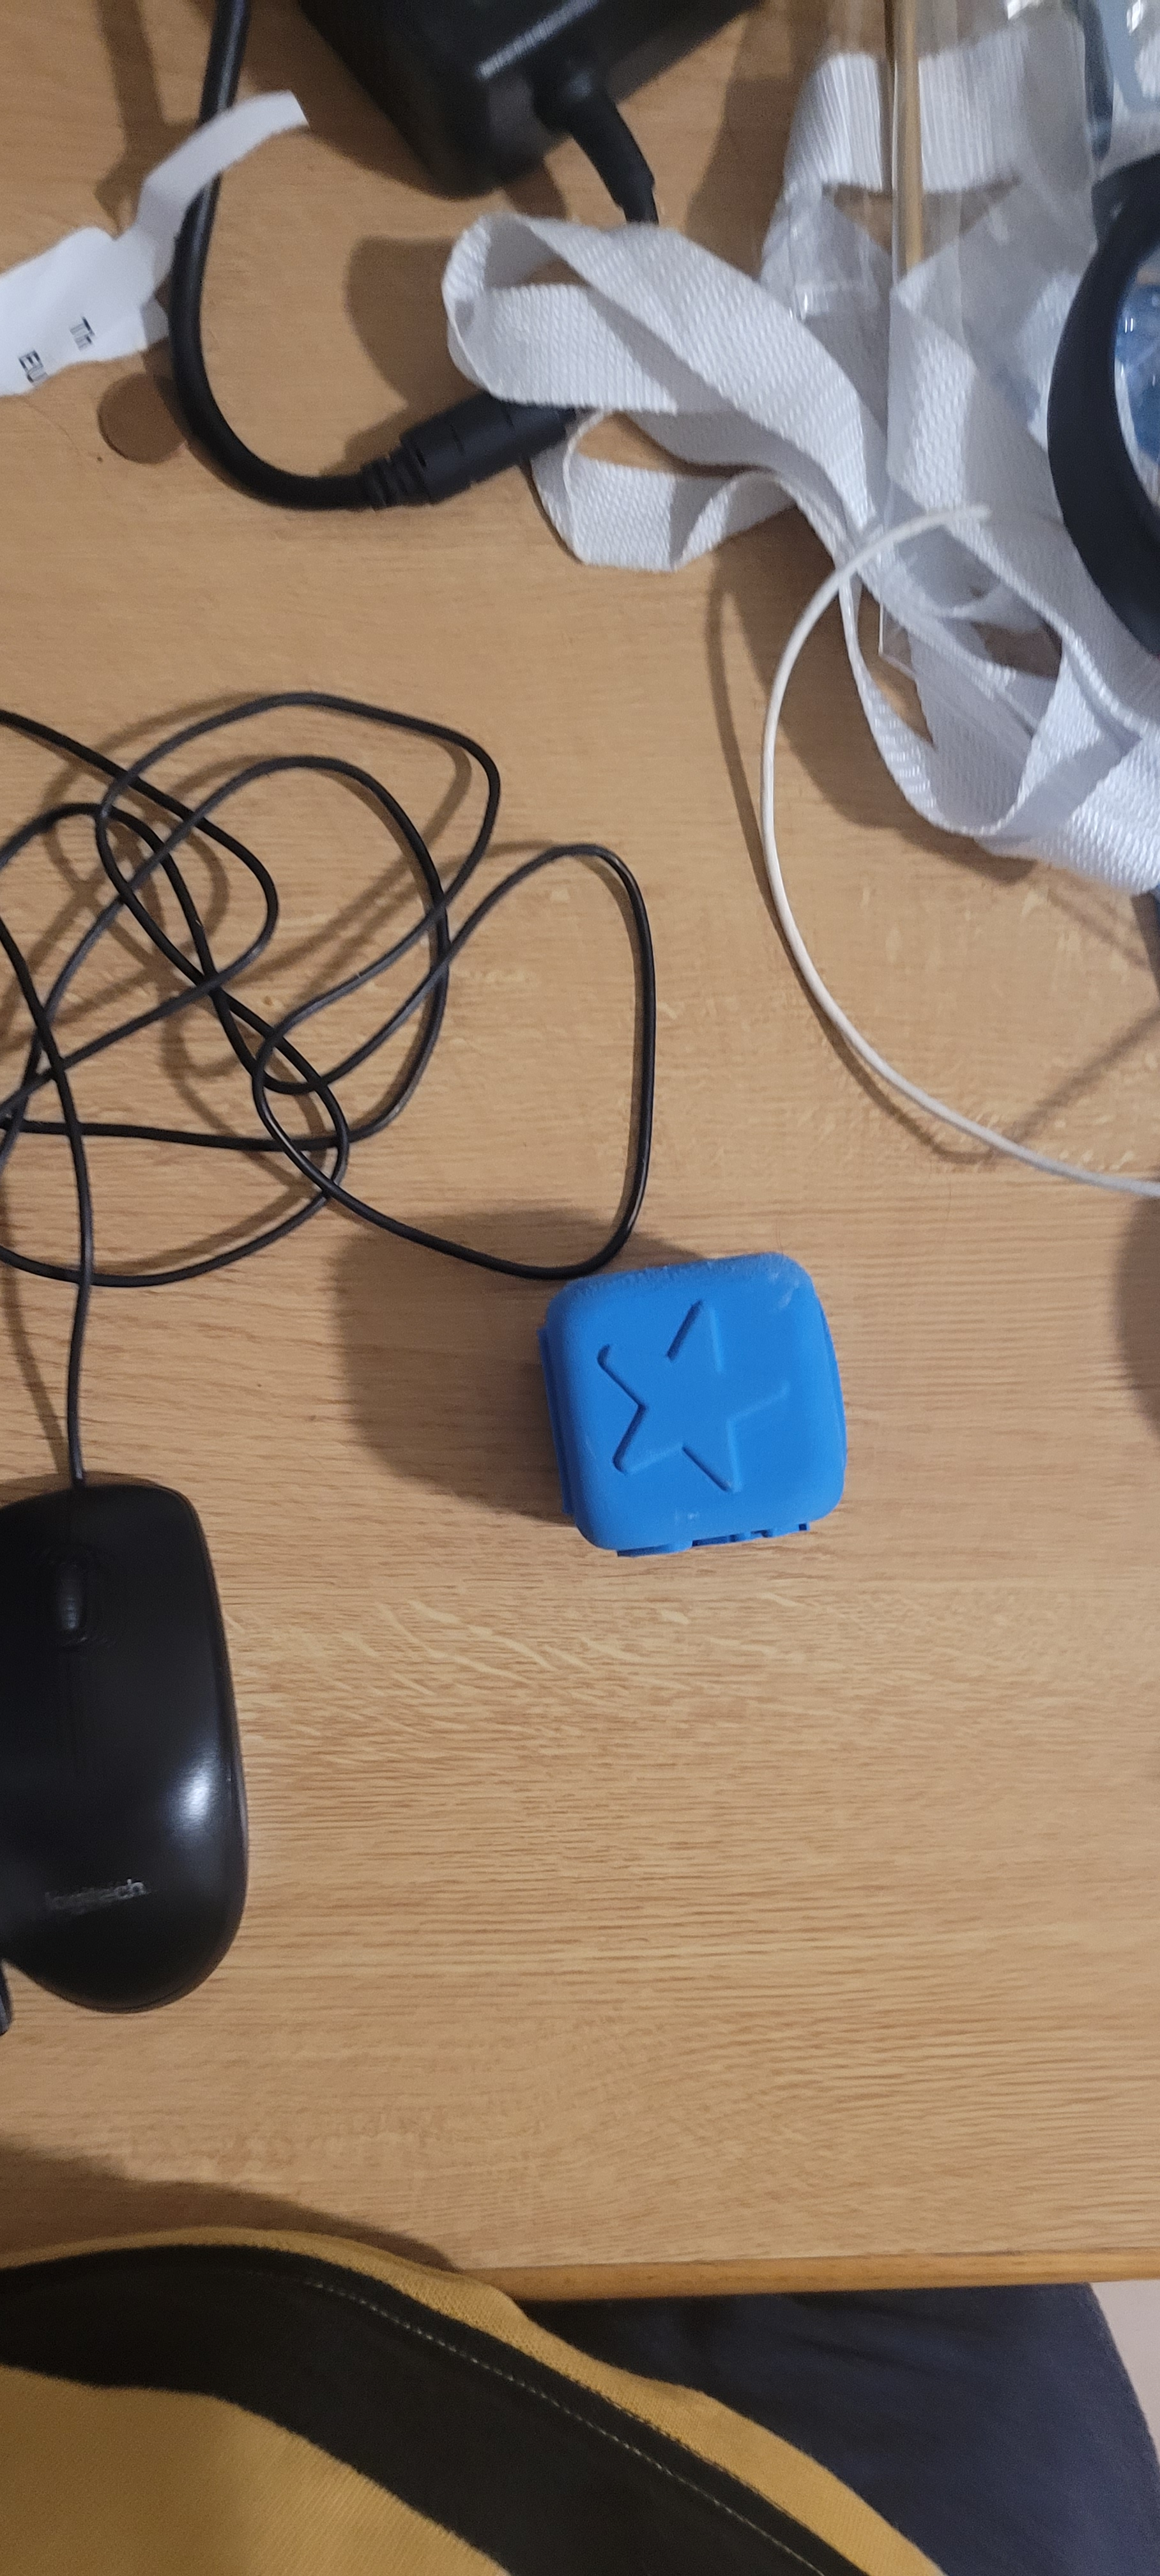Star: (582, 1321, 822, 1503)
